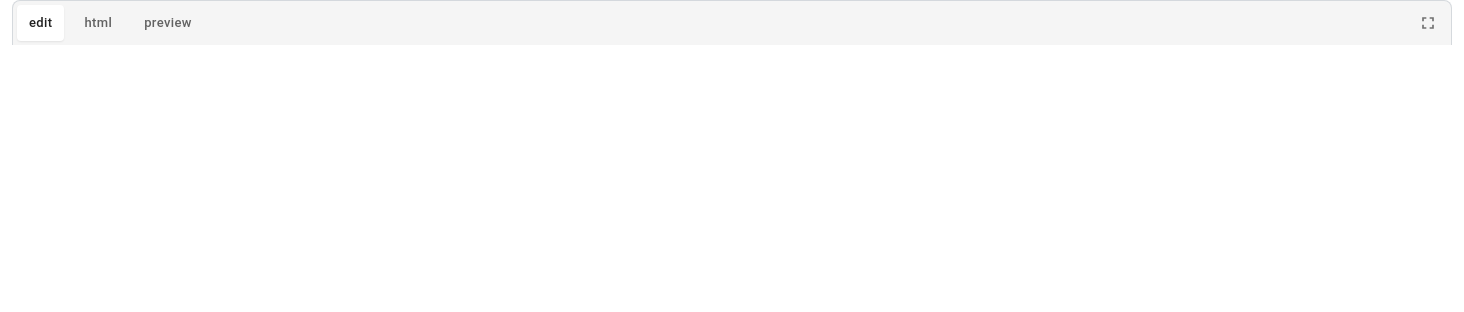
Scenario: HtmlEditor › disables editor when disabled prop is true
The image size is (1464, 312).
Click the tab "html". click: (98, 23)
box: [72,5,124,41]
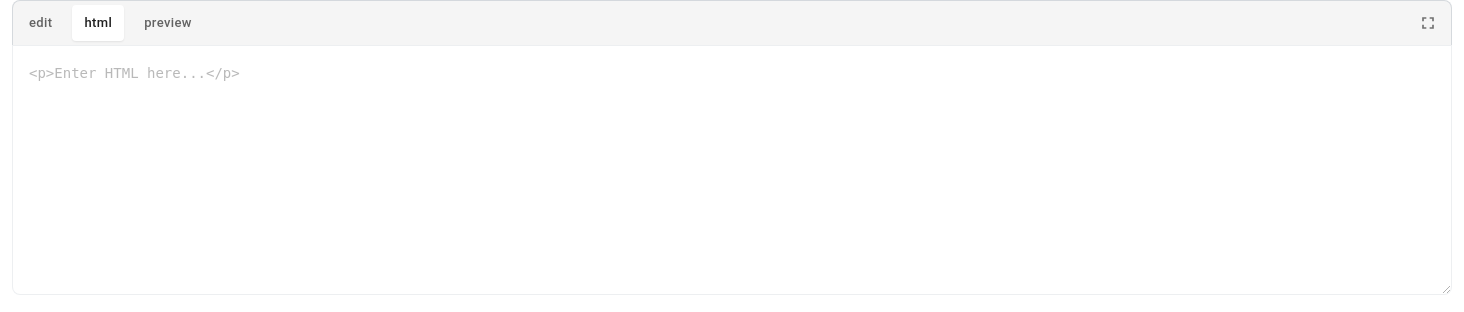
Result: the text box is disabled
